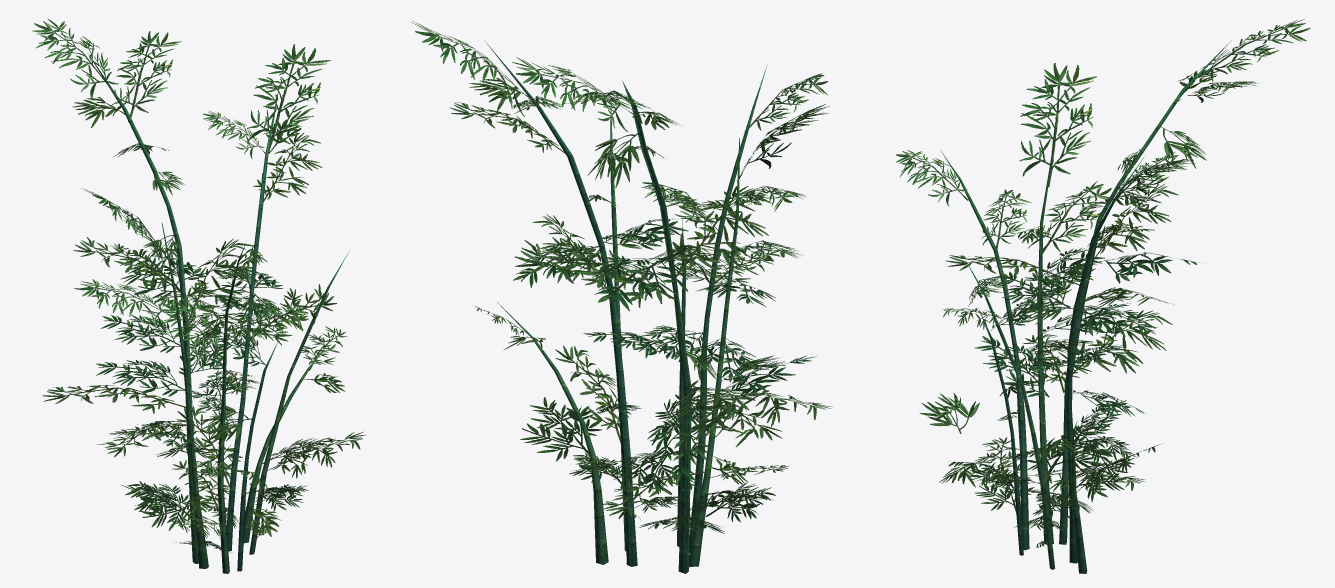
The model's file is xzl_zhuzi02_jgc.FBX.
3 views of the same model, side by side, from view 1: azimuth 30°, elevation 25°; view 2: azimuth 150°, elevation 25°; view 3: azimuth 270°, elevation 25° (orthographic). The views are drawn at different scales.
Visible parts, largest first — view 1: xzl_zhuzi02_jgc; view 2: xzl_zhuzi02_jgc; view 3: xzl_zhuzi02_jgc.
Part boxes in pixels (<box>): xzl_zhuzi02_jgc: <box>32,18,365,573</box>; xzl_zhuzi02_jgc: <box>410,20,832,573</box>; xzl_zhuzi02_jgc: <box>895,19,1310,573</box>.
Size of the model in its own units: 3845 by 5641 by 4460.
